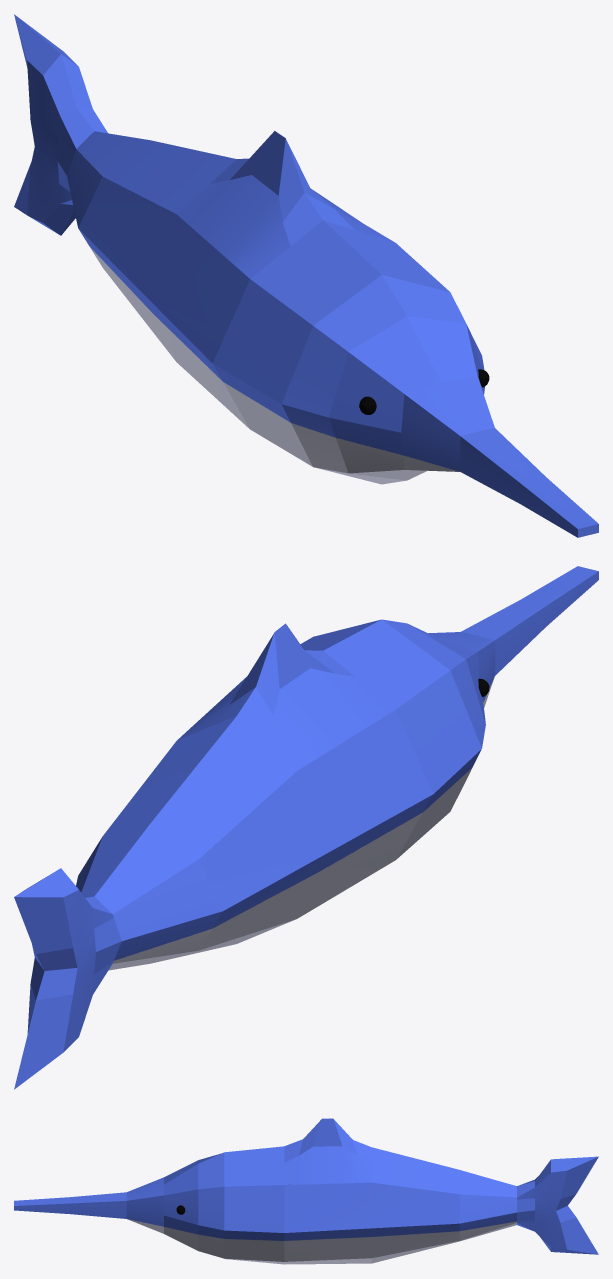
File: SwordFish.fbx
The picture shows the model from 3 angles, top to bottom: view 1: azimuth 30°, elevation 25°; view 2: azimuth 150°, elevation 25°; view 3: azimuth 270°, elevation 25°; orthographic projection. The views are drawn at different scales.
Visible parts, largest first — view 1: Cube.001; view 2: Cube.001; view 3: Cube.001.
Boxes of the visible parts, x1=… form: Cube.001: x1=14, y1=14, x2=598, y2=537; Cube.001: x1=14, y1=566, x2=598, y2=1089; Cube.001: x1=14, y1=1118, x2=598, y2=1264.
Size of the model in its own units: 200 by 248 by 901.
Materials: 1 (1 with a texture image).
